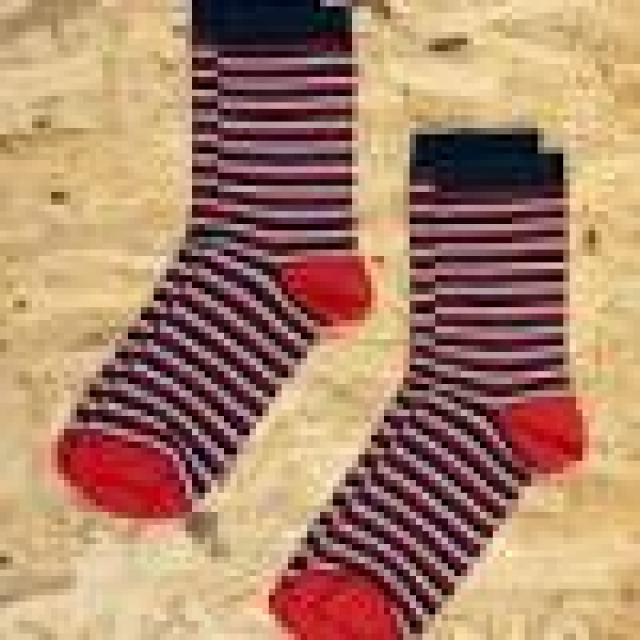Clothes -Biodegradable-: (265, 129, 584, 640), (58, 0, 369, 518)
